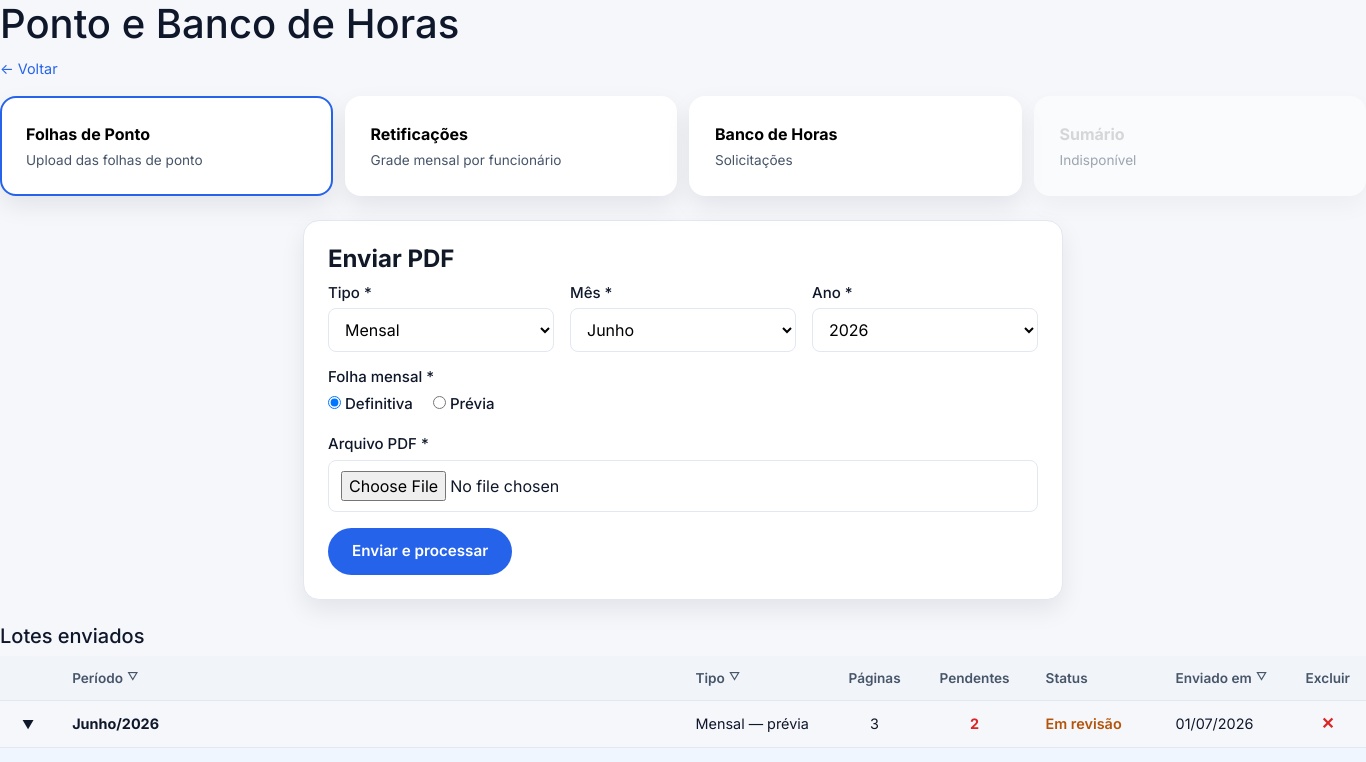
AdminPontoComponent › render da exclusão (X e modal dinâmico) › o erro do backend aparece DENTRO do modal (não só num toast que some)
Step 1. Click the button with class "btn-x-lote" → (1328, 723), box top-left (1315, 713), bottom-right (1340, 733)
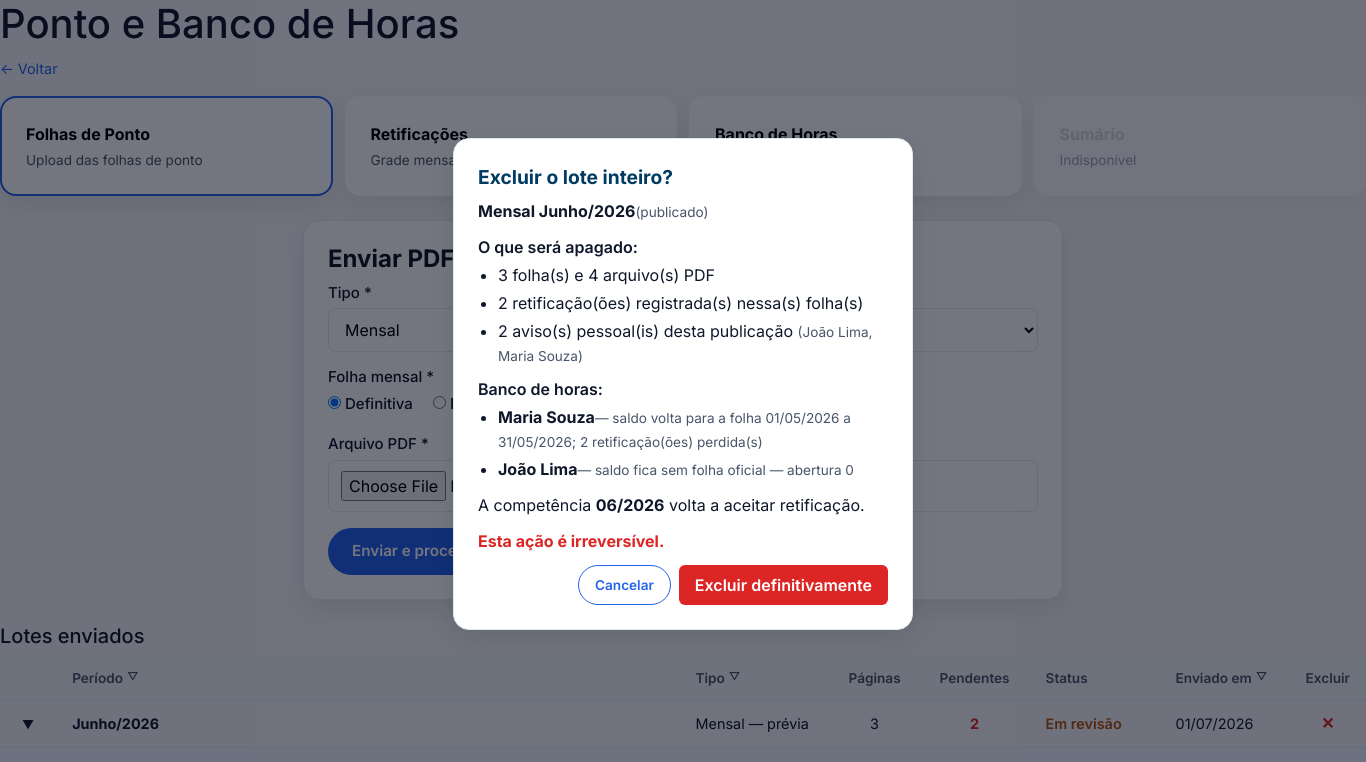
Step 2. Click the button with class "btn-danger" → (783, 585), box top-left (679, 565), bottom-right (888, 605)
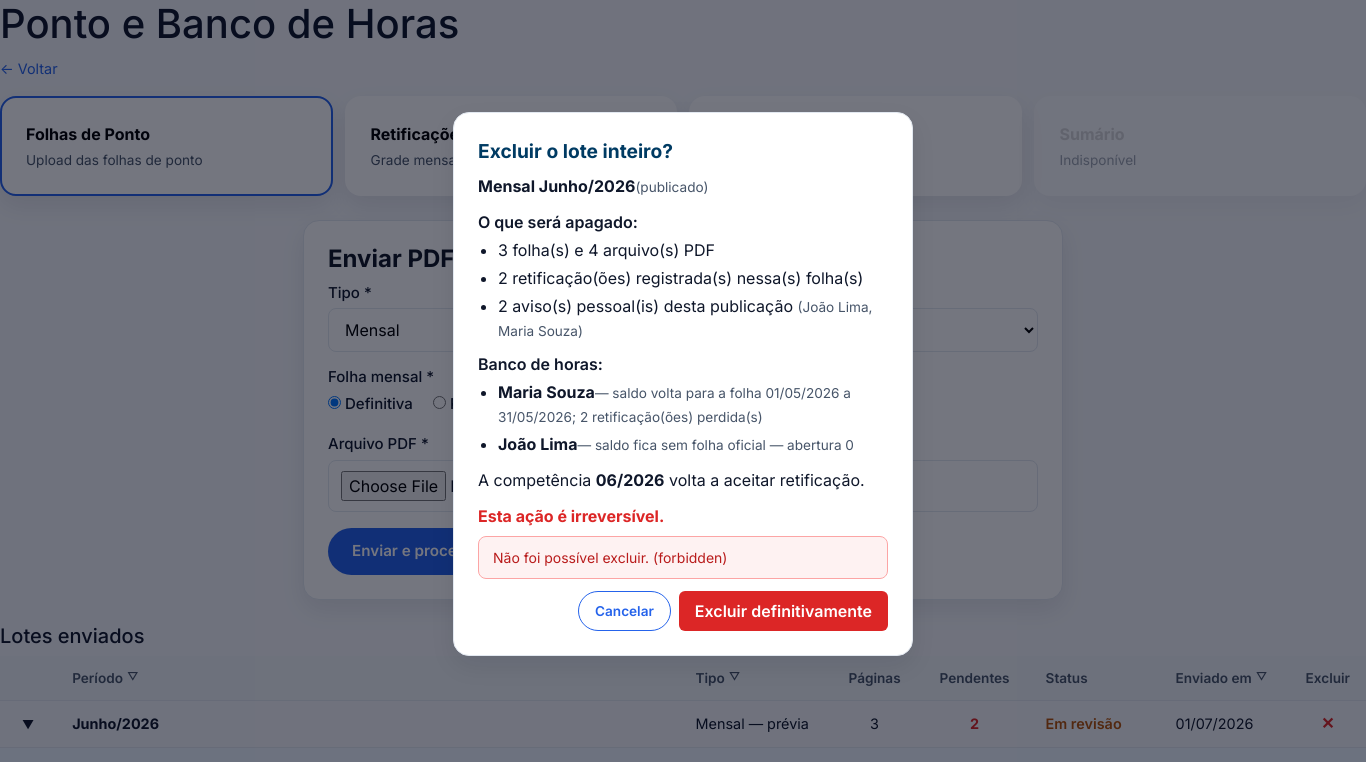
Expected: the text with class "error-box" shows "forbidden", top-left (493, 549), bottom-right (728, 566)
